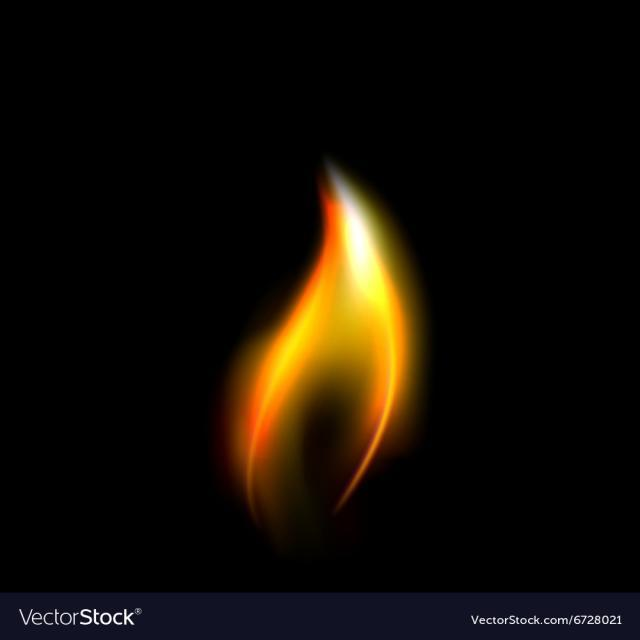Fire: (183, 138, 440, 556)
